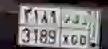1: (32, 9, 39, 44)
3: (22, 7, 30, 43)
8: (40, 10, 47, 44)
9: (49, 10, 57, 44)
G: (71, 14, 79, 46)
X: (62, 14, 69, 45)
